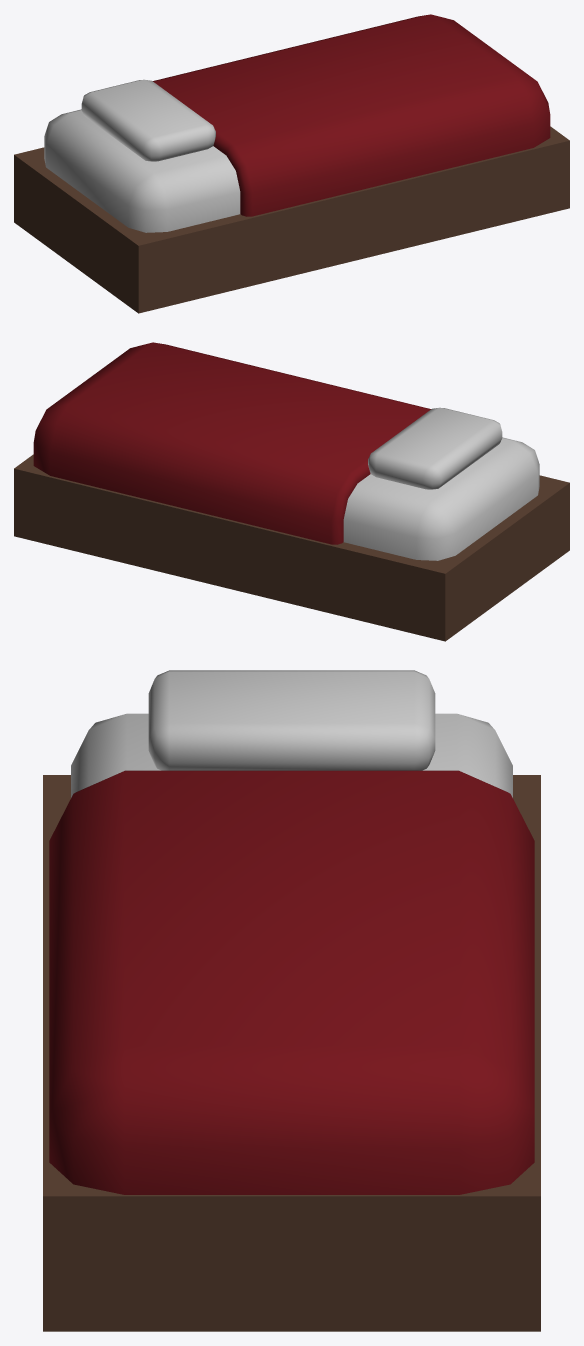
Rendered from Mesh_Cama.fbx.
3 views of the same model, one above another, from view 1: azimuth 30°, elevation 25°; view 2: azimuth 150°, elevation 25°; view 3: azimuth 270°, elevation 25° (orthographic). The views are drawn at different scales.
Visible parts, largest first — view 1: Mesh_Cama; view 2: Mesh_Cama; view 3: Mesh_Cama.
Part boxes in pixels (<box>): Mesh_Cama: <box>14,14,569,313</box>; Mesh_Cama: <box>14,342,569,641</box>; Mesh_Cama: <box>43,670,540,1331</box>.
Bounding box in the file's own units: 200 × 62.8 × 100.
